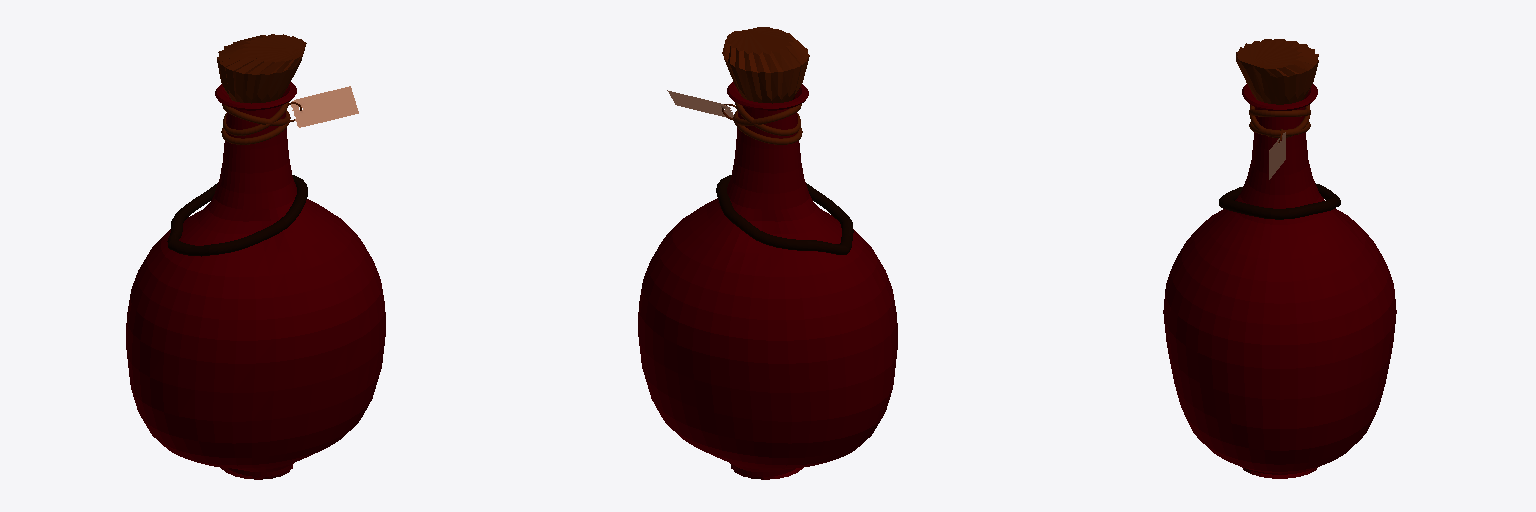
Rendered from objsmooth.obj.
The picture shows the model from 3 angles: view 1: azimuth 30°, elevation 25°; view 2: azimuth 150°, elevation 25°; view 3: azimuth 270°, elevation 25°; orthographic projection.
Visible parts, largest first — view 1: pTorus6; view 2: pTorus6; view 3: pTorus6.
Boxes of the visible parts, <box> form: pTorus6: <box>126,34,385,479</box>; pTorus6: <box>638,27,897,479</box>; pTorus6: <box>1163,39,1396,478</box>.
Bounding box in the file's own units: 12.96 × 22.12 × 11.24.